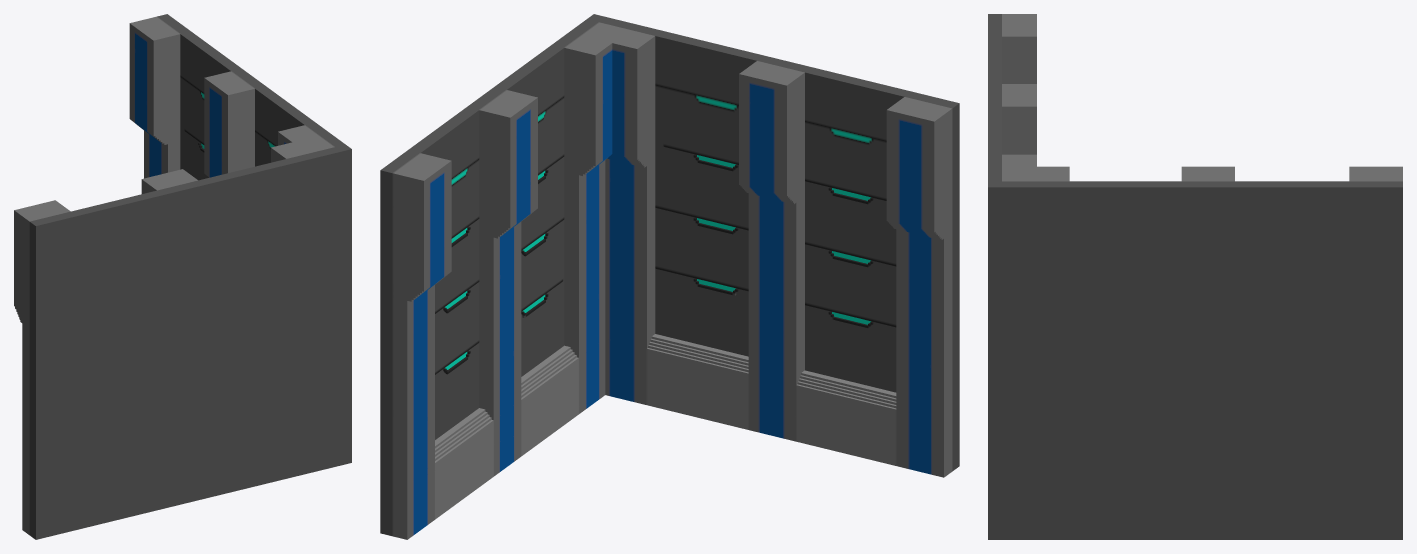
File: Lab-9-Corner.fbx
3 renders of one model, left to right at view 1: azimuth 30°, elevation 25°; view 2: azimuth 150°, elevation 25°; view 3: azimuth 270°, elevation 25°, orthographic. The views are drawn at different scales.
Visible parts, largest first — view 1: Corner; view 2: Corner; view 3: Corner.
Part boxes in pixels (box(x1,y1,x2,y2)): Corner: box(14, 14, 351, 539); Corner: box(380, 14, 959, 539); Corner: box(988, 14, 1402, 539).
Bounding box in the file's own units: 176 × 167 × 178.
